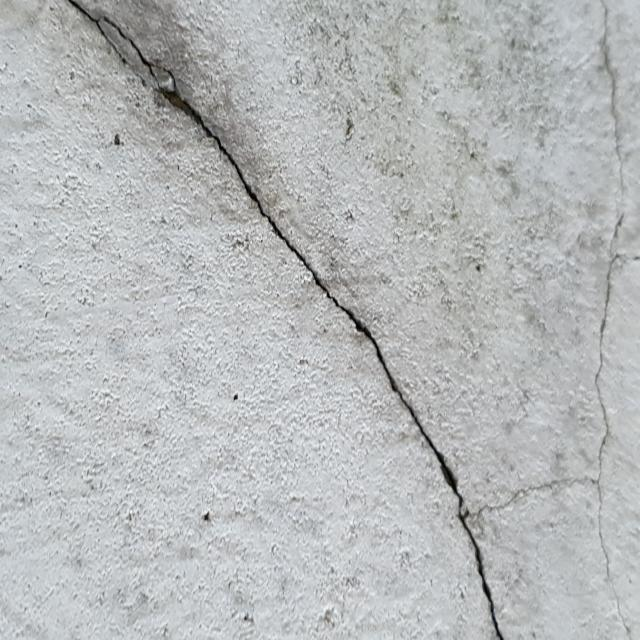SurfaceCrack: (2, 0, 544, 639), (551, 0, 640, 640)
